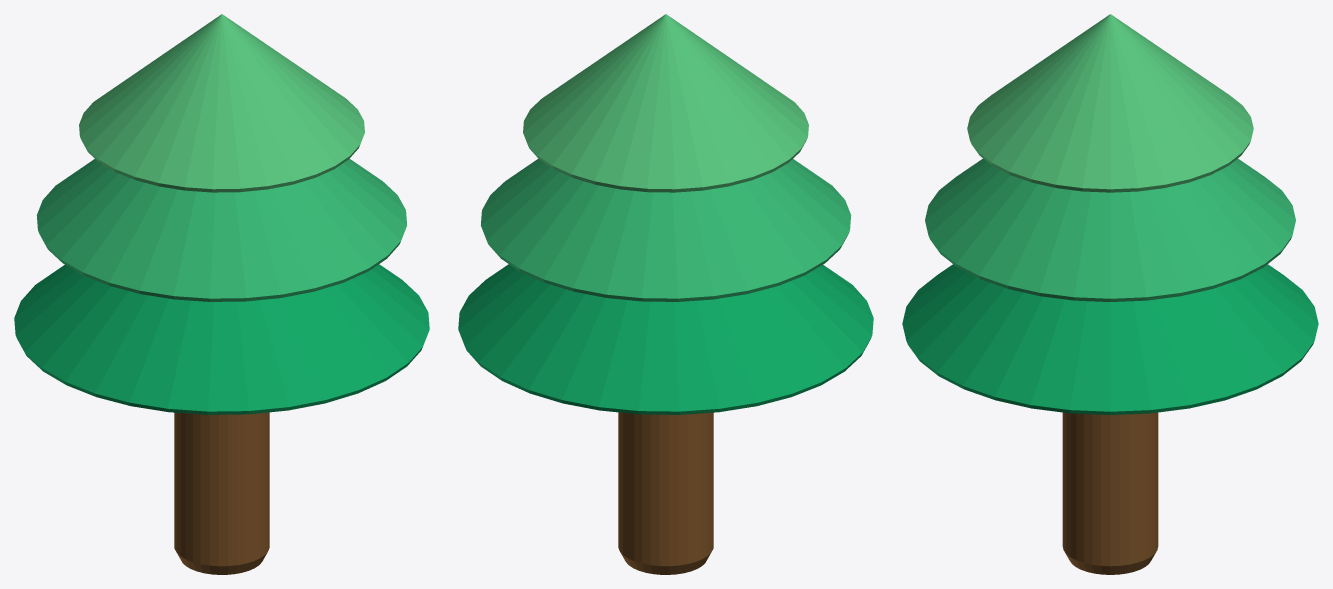
Rendered from 高松树2.fbx.
3 views of the same model, side by side, from view 1: azimuth 30°, elevation 25°; view 2: azimuth 150°, elevation 25°; view 3: azimuth 270°, elevation 25° (orthographic).
Visible parts, largest first — view 1: Cone.002, Cone.001, Cone, Cylinder; view 2: Cone.002, Cone.001, Cone, Cylinder; view 3: Cone.002, Cone.001, Cone, Cylinder.
Part boxes in pixels (x1=…): Cone.002: x1=14, y1=264, x2=429, y2=414; Cone.001: x1=36, y1=158, x2=407, y2=301; Cone: x1=79, y1=14, x2=364, y2=192; Cylinder: x1=174, y1=412, x2=269, y2=574; Cone.002: x1=458, y1=264, x2=873, y2=414; Cone.001: x1=480, y1=158, x2=851, y2=301; Cone: x1=523, y1=14, x2=808, y2=192; Cylinder: x1=618, y1=412, x2=713, y2=574; Cone.002: x1=902, y1=264, x2=1318, y2=414; Cone.001: x1=925, y1=158, x2=1295, y2=301; Cone: x1=967, y1=14, x2=1253, y2=192; Cylinder: x1=1062, y1=412, x2=1158, y2=574.
Bounding box in the file's own units: 2.45 × 3.53 × 2.45.
